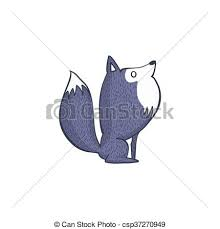Lobo: (55, 47, 170, 160)
